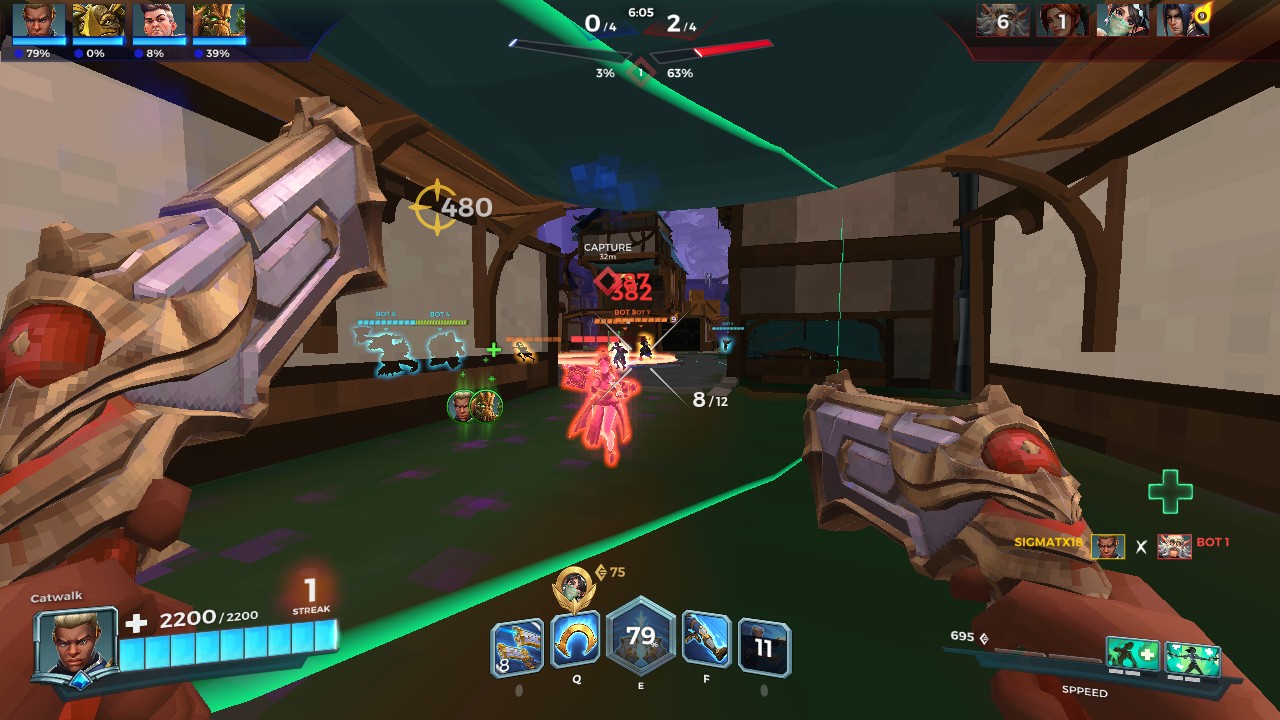model: (566, 347, 638, 470), (505, 334, 544, 369)
